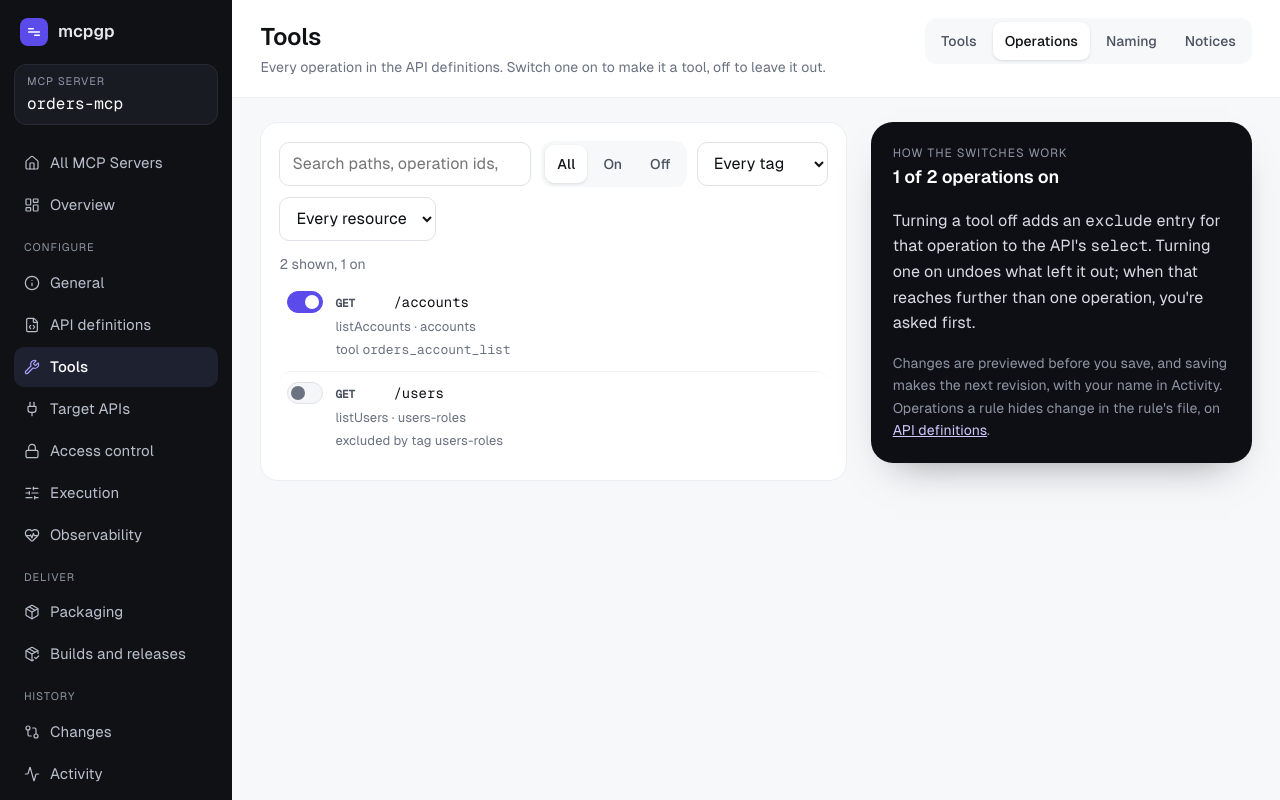
it: choosing operations › asks before turning on what a broader entry leaves out
Click the switch named "GET /users" at (305, 393), box [287, 382, 323, 404]
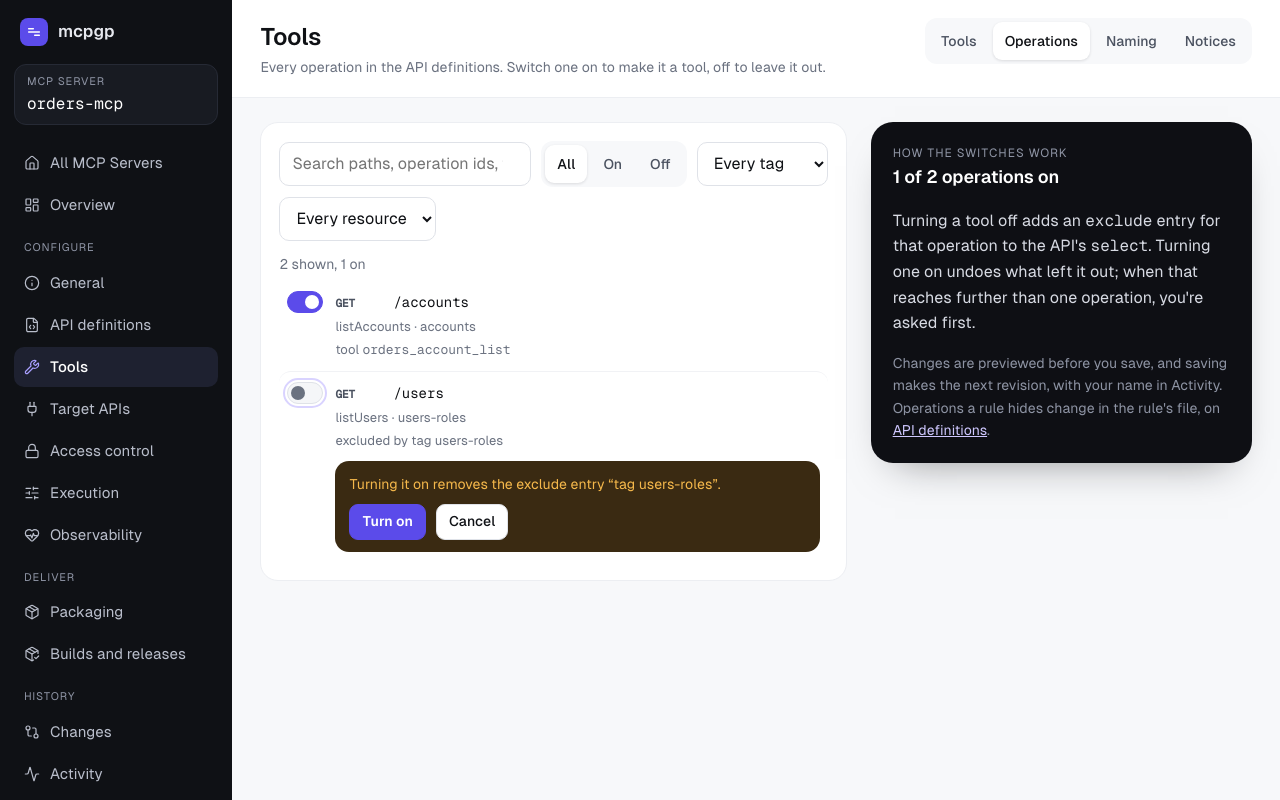
Now the dialog shows "removes the exclude entry “tag users-roles”", box [433, 476, 718, 492]
Click the button "Cancel" at (472, 522), box [436, 504, 508, 540]
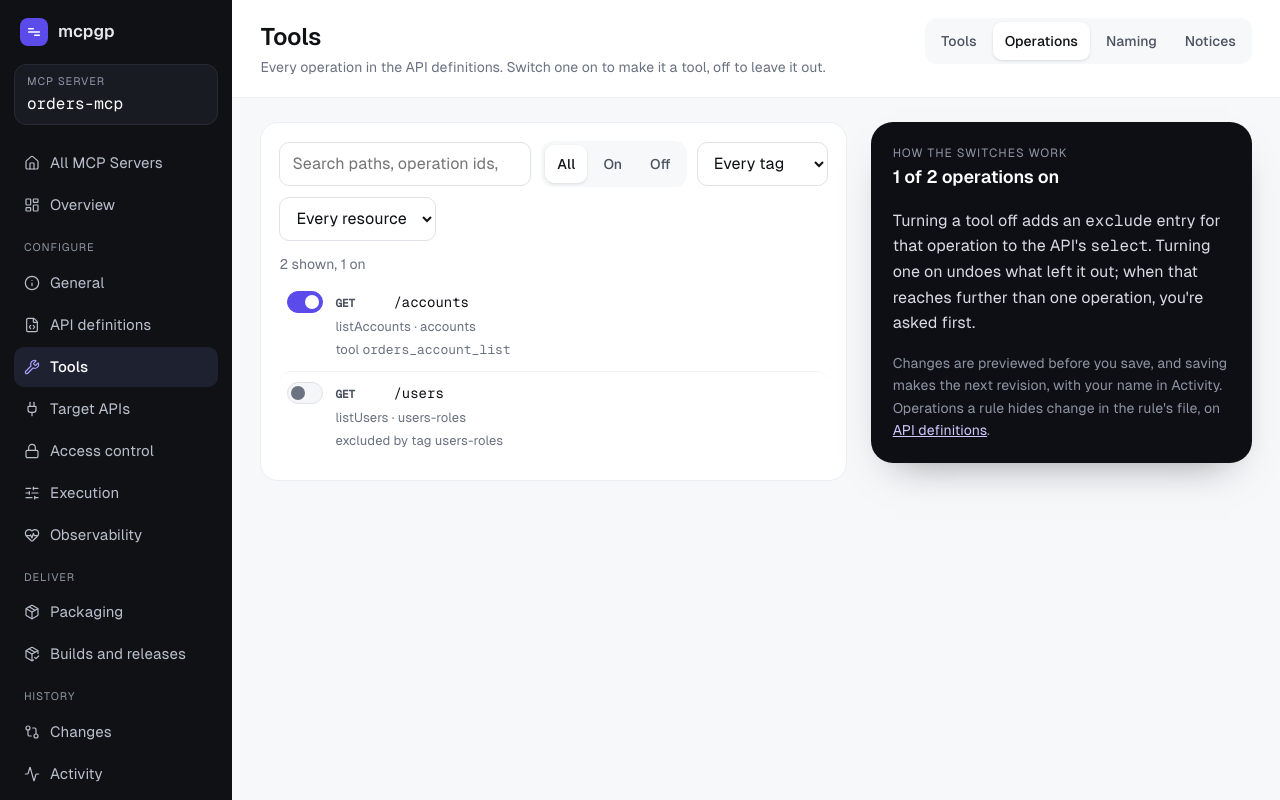
Now the dialog is gone
